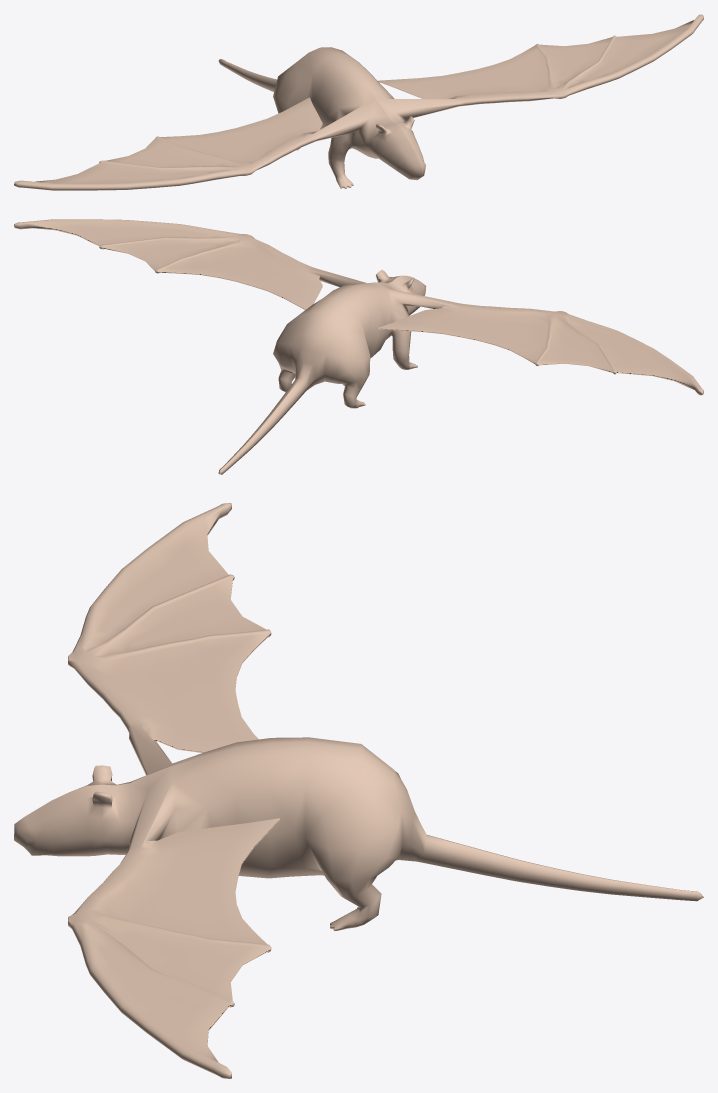
File: Ratorcego.fbx
3 views of the same model, one above another, from view 1: azimuth 30°, elevation 25°; view 2: azimuth 150°, elevation 25°; view 3: azimuth 270°, elevation 25° (orthographic). The views are drawn at different scales.
Parts seen in each view (by area): view 1: Rodent:rat1; view 2: Rodent:rat1; view 3: Rodent:rat1.
Boxes of the visible parts, bbox=[...] form: Rodent:rat1: bbox=[14, 14, 703, 190]; Rodent:rat1: bbox=[14, 219, 703, 474]; Rodent:rat1: bbox=[14, 503, 703, 1078].
Size of the model in its own units: 61.96 by 8 by 31.59.
